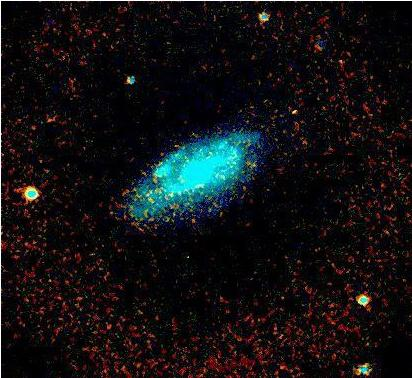star: (280, 96, 310, 126)
